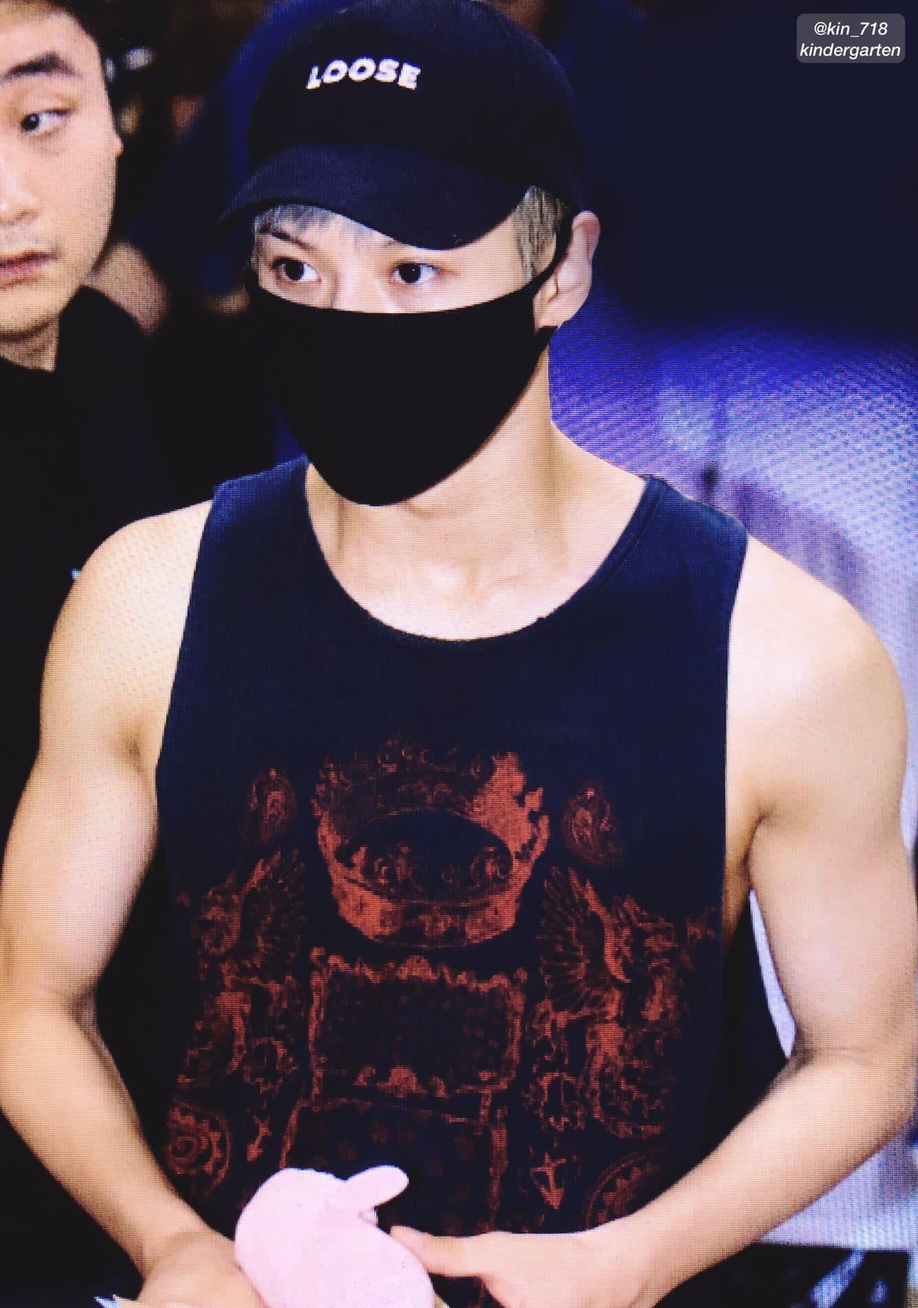NONE: (1, 34, 112, 330)
OK: (240, 203, 537, 500)
